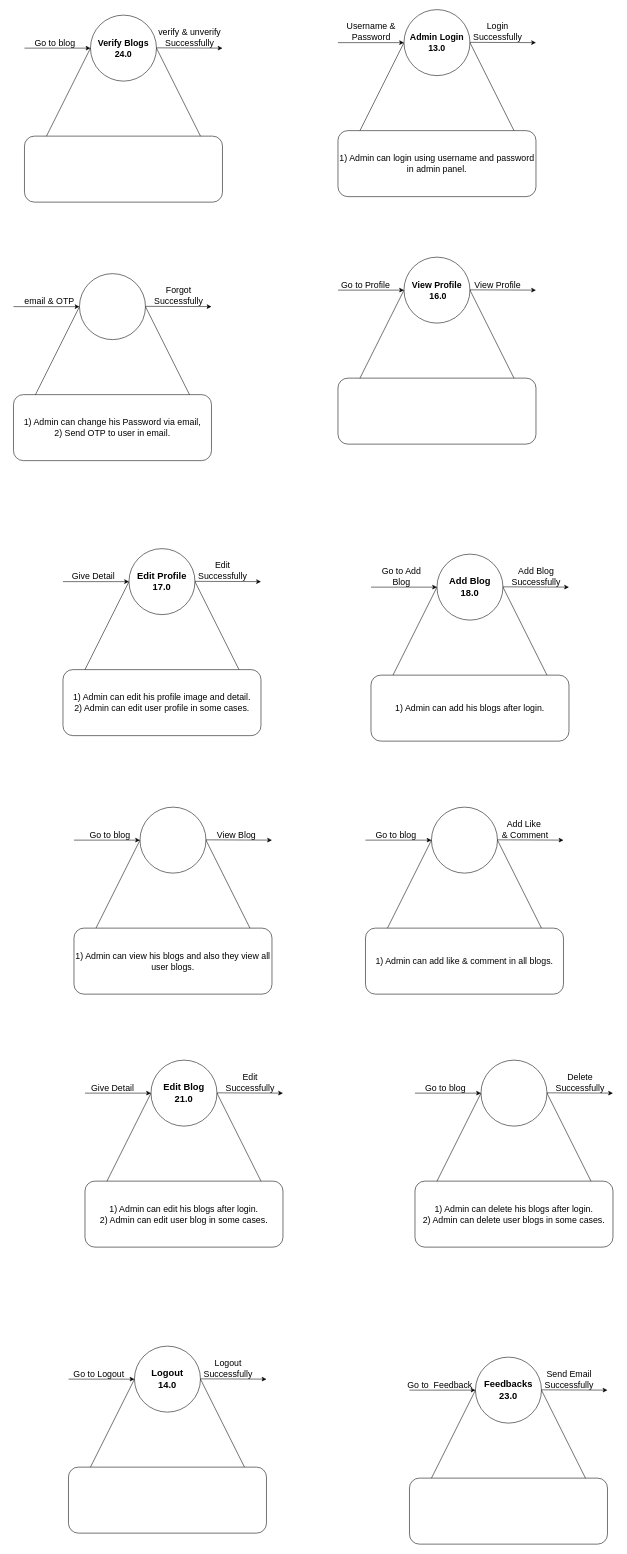
Image size: 627x1554. Some labels were removed from this diagram. The shapes that lost their labels are listed below. From the top down, each one's centre as x and y in pixels, then its label:
At point (123, 169): "1) Admin can check all user blogs and after they verify the blogs.".
At point (112, 306): "Send Email 15.0".
At point (436, 411): "1) Admin can view his profile after login. 2) Admin can view all user profile.".
At point (172, 840): "View Blog 19.0".
At point (464, 840): "Like & Comment Blog 20.0".
At point (513, 1093): "Delete Blog 22.0".
At point (167, 1500): "1) Admin can logout from admin panel using logout button.".
At point (508, 1511): "1) Admin can check user feedbacks and send email as a answer.".
